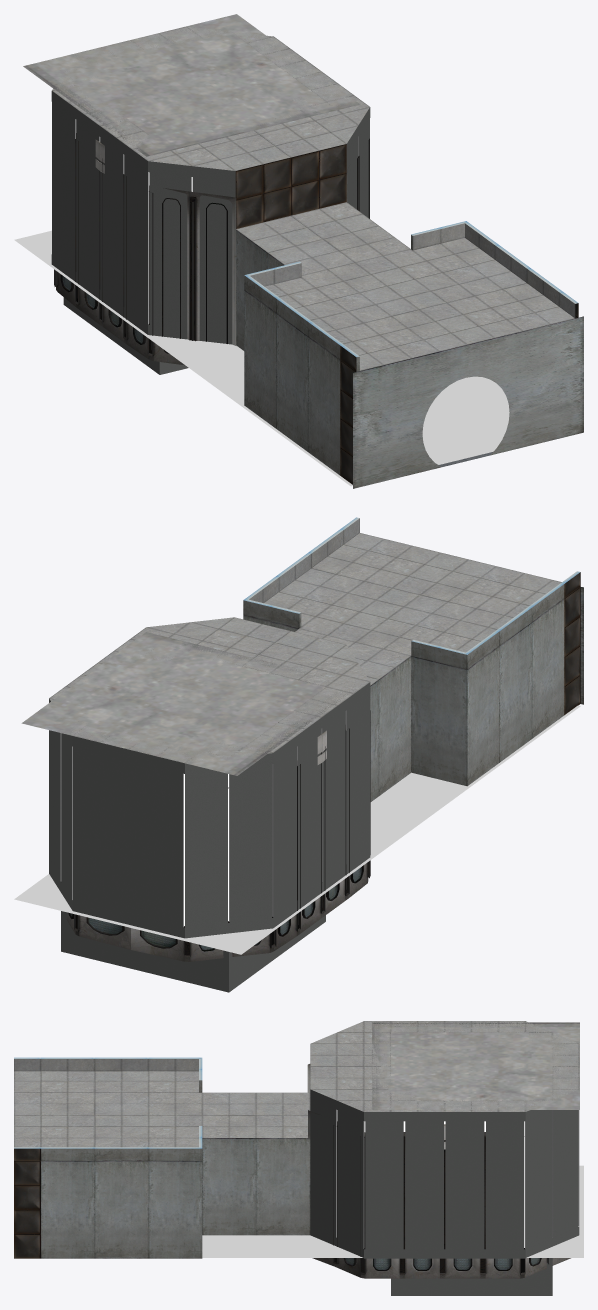
The model's file is corridor.glb.
The picture shows the model from 3 angles, top to bottom: view 1: azimuth 30°, elevation 25°; view 2: azimuth 150°, elevation 25°; view 3: azimuth 270°, elevation 25°; orthographic projection. The views are drawn at different scales.
Visible parts, largest first — view 1: Object_75.001, down, parts\smd\elevatorshaft_wall.smd_1; view 2: Object_75.001, down, parts\smd\elevatorshaft_wall.smd_1; view 3: Object_75.001, parts\smd\elevatorshaft_wall.smd_1, down.
Boxes of the visible parts, x1,y1,x2,y2 form: Object_75.001: (23,14,583,488); down: (14,230,509,486); parts\smd\elevatorshaft_wall.smd_1: (54,133,369,365); Object_75.001: (21,517,583,992); down: (14,705,580,954); parts\smd\elevatorshaft_wall.smd_1: (66,710,370,961); Object_75.001: (14,1021,579,1295); parts\smd\elevatorshaft_wall.smd_1: (307,1064,570,1278); down: (202,1165,583,1257).
Bounding box in the file's own units: 5.07 × 4.88 × 12.9.
14 materials, 13 textured.
